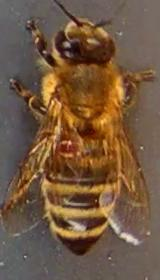varroa_mite: (42, 128, 86, 164)
